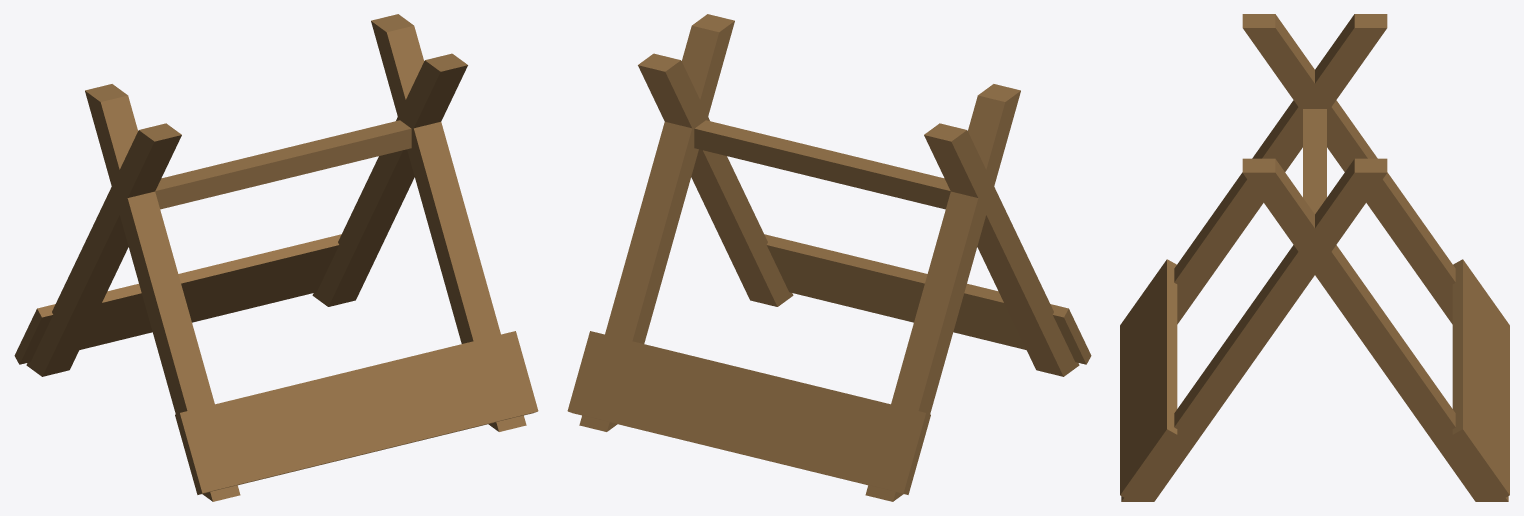
The model's file is Weapon_Stand_02.fbx.
The picture shows the model from 3 angles, left to right: view 1: azimuth 30°, elevation 25°; view 2: azimuth 150°, elevation 25°; view 3: azimuth 270°, elevation 25°; orthographic projection. The views are drawn at different scales.
Visible parts, largest first — view 1: Weapon_Stand_02; view 2: Weapon_Stand_02; view 3: Weapon_Stand_02.
Part boxes in pixels (x1,y1,x2,y2): Weapon_Stand_02: (14,14,538,501); Weapon_Stand_02: (567,14,1091,501); Weapon_Stand_02: (1120,14,1509,501).
Size of the model in its own units: 122 by 110 by 118.
